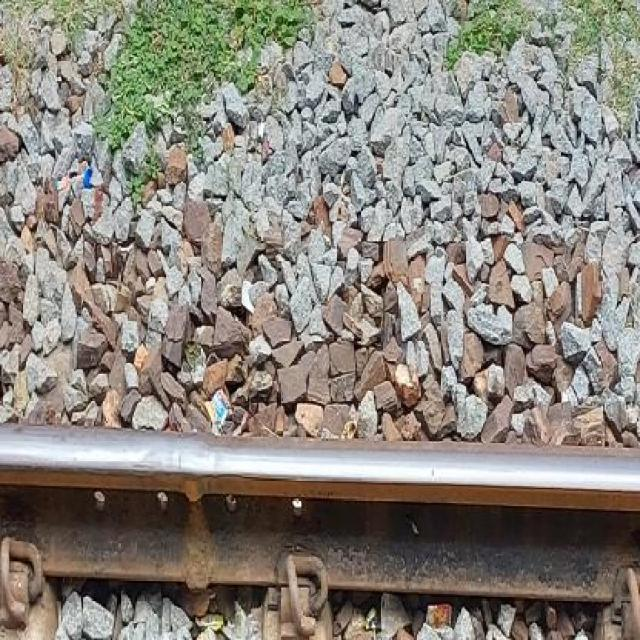non-defective: (0, 416, 638, 638)
